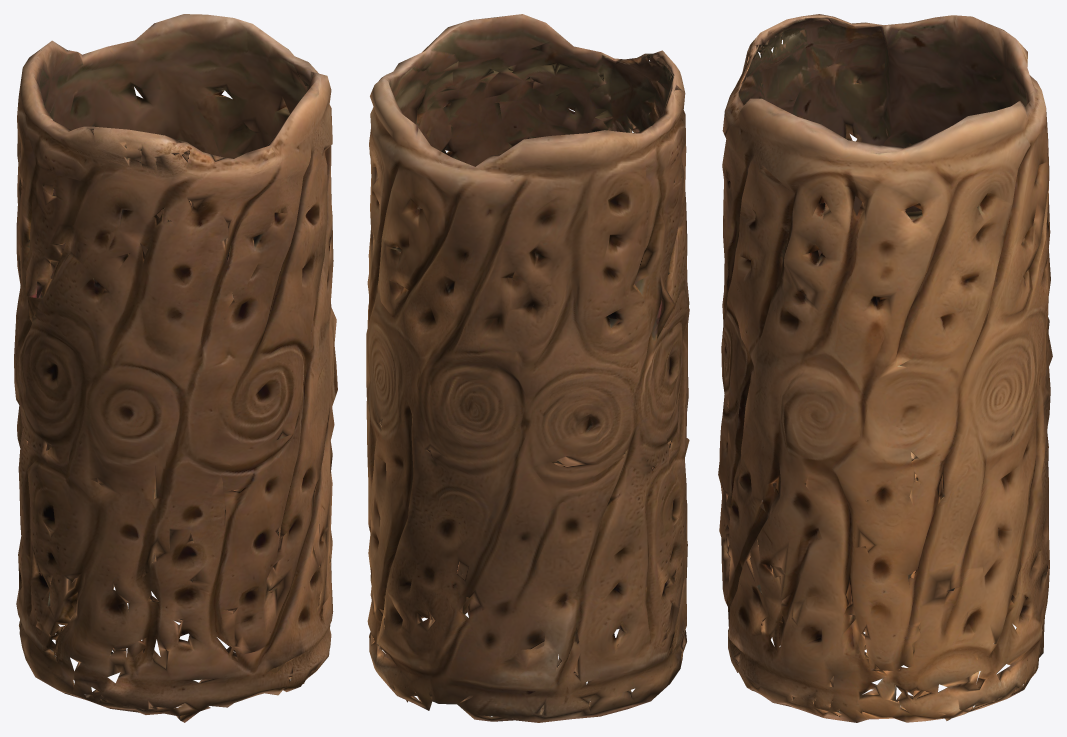
File: rodillo.glb
The picture shows the model from 3 angles, left to right: view 1: azimuth 30°, elevation 25°; view 2: azimuth 150°, elevation 25°; view 3: azimuth 270°, elevation 25°; orthographic projection. The views are drawn at different scales.
Size of the model in its own units: 1.01 by 1.98 by 0.9916.
1 material, 1 textured.
